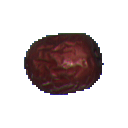gd: (20, 18, 117, 113)
